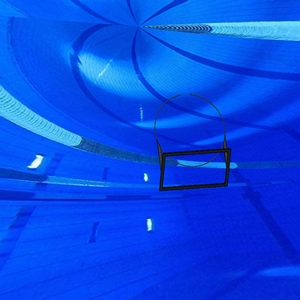circle: (154, 92, 232, 193)
